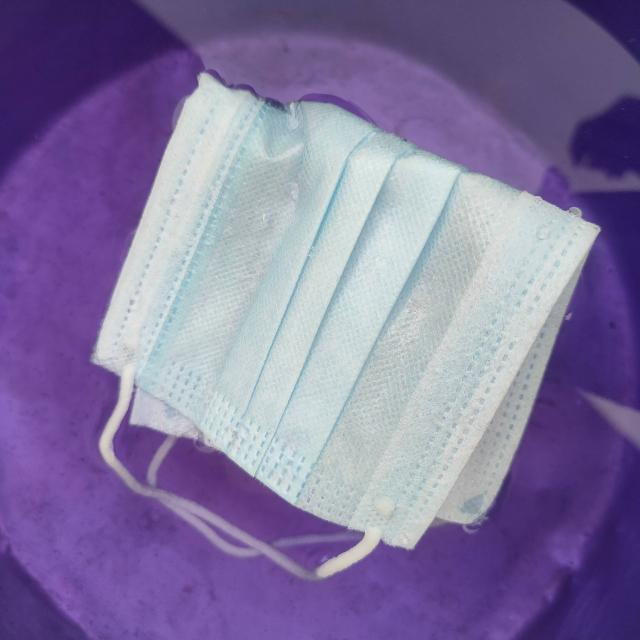litter: (40, 58, 624, 576)
